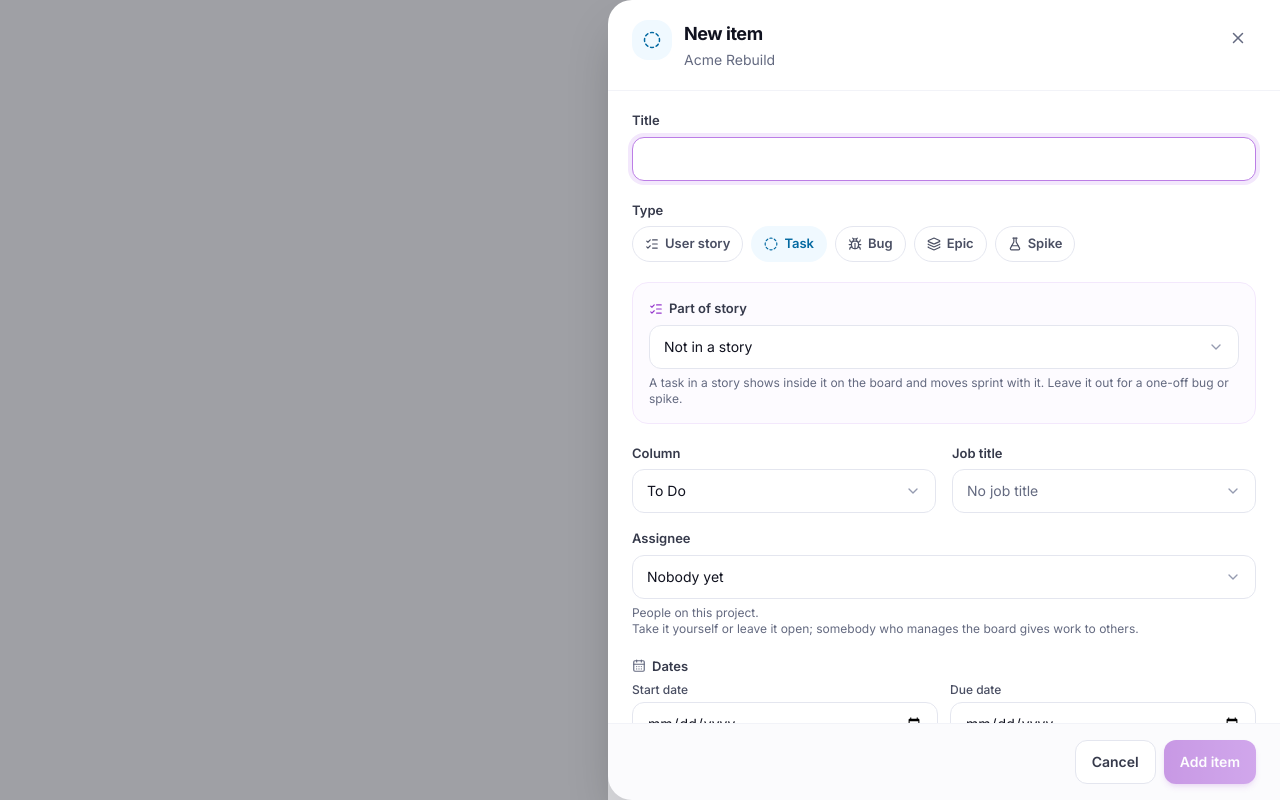
Test case: who work can be given to › offers somebody without it only themselves
Click the dropdown named "Assignee".
click(685, 576)  # box [632,554,1256,598]
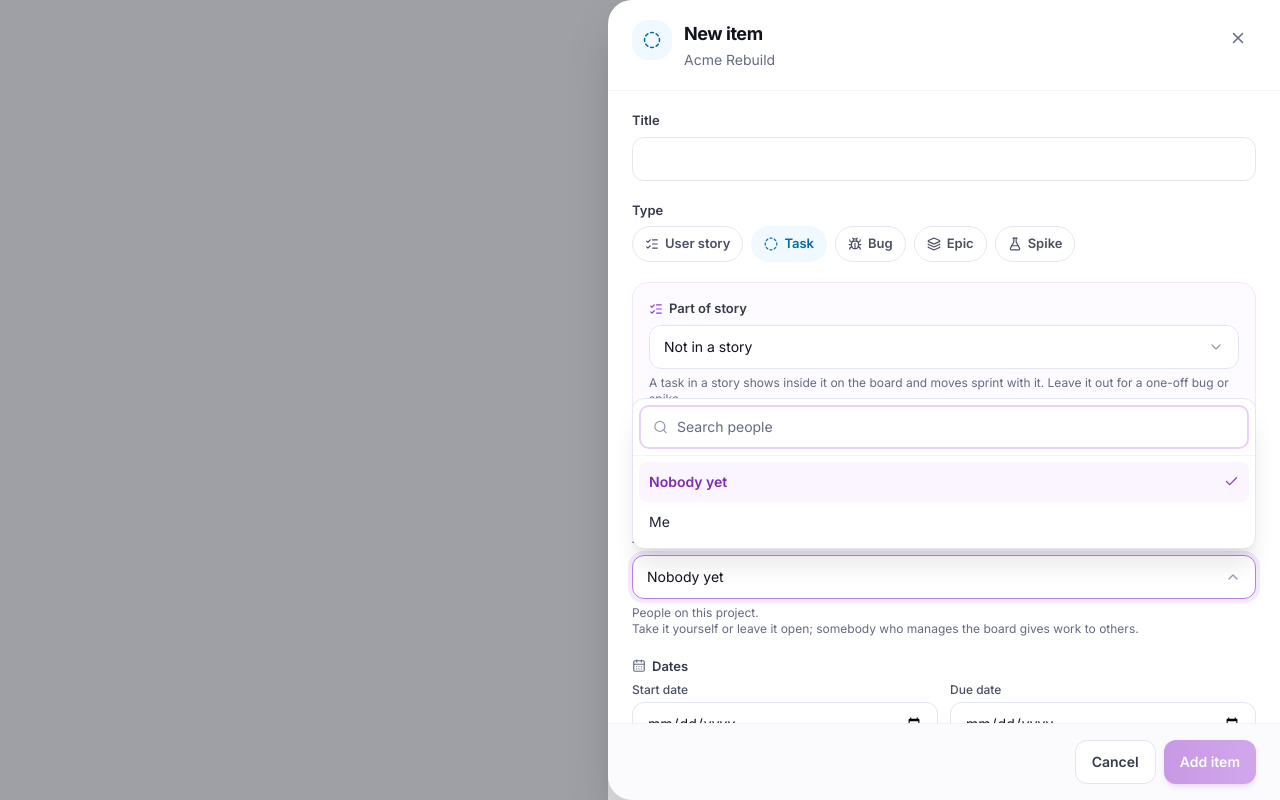
Result: the option "Me" is shown at [649,512,670,530]
